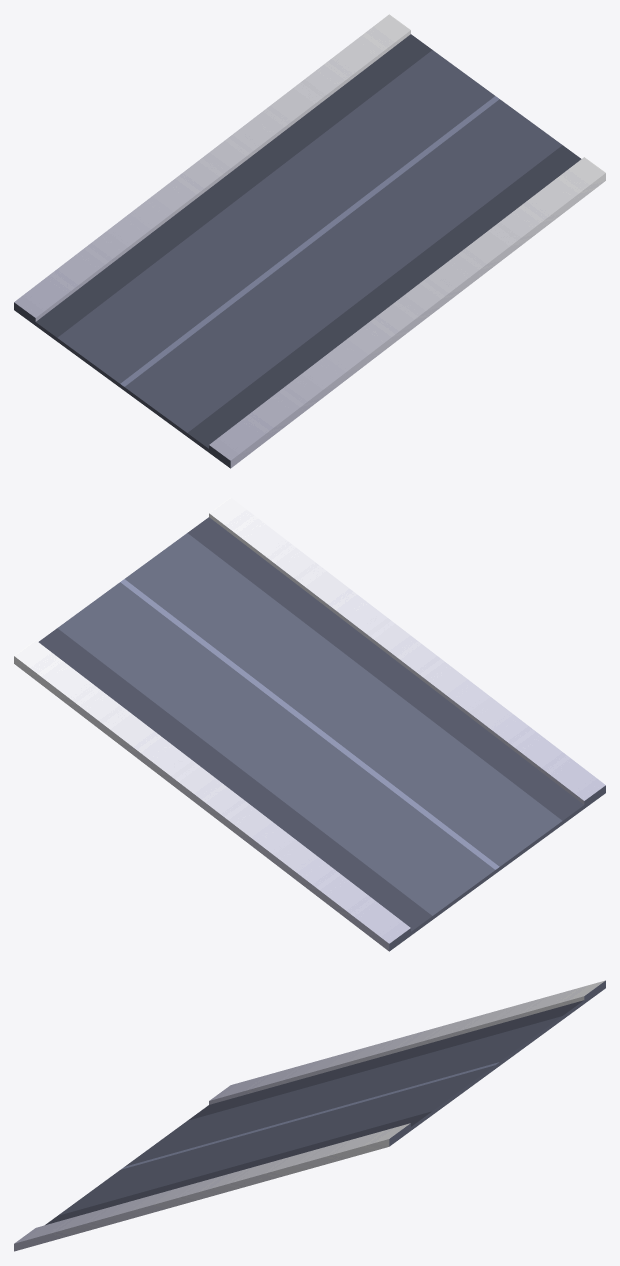
The model's file is road-slant-flat-high.glb.
3 views of the same model, one above another, from view 1: azimuth 30°, elevation 25°; view 2: azimuth 150°, elevation 25°; view 3: azimuth 330°, elevation 25° (orthographic).
Visible parts, largest first — view 1: road-slant-flat-high; view 2: road-slant-flat-high; view 3: road-slant-flat-high.
Part boxes in pixels (x1,y1,x2,y2): road-slant-flat-high: (14,14,605,468); road-slant-flat-high: (14,497,605,951); road-slant-flat-high: (14,980,605,1251).
Bounding box in the file's own units: 1 × 0.52 × 1.
Materials: 1 (1 with a texture image).
